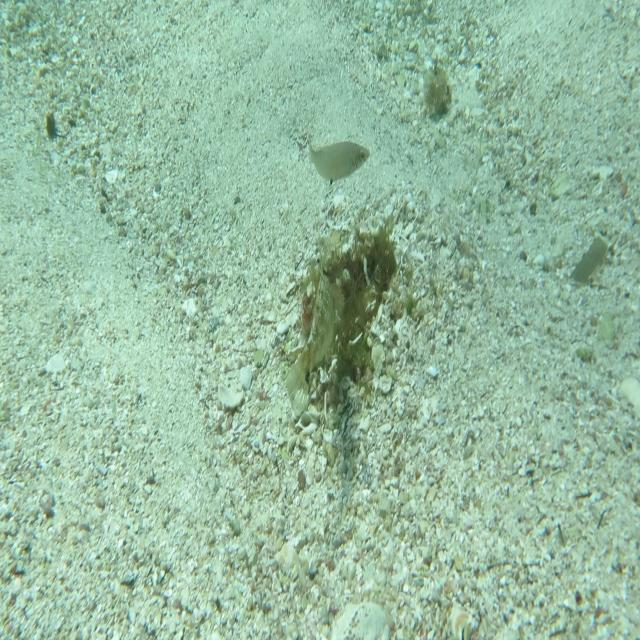AM: (285, 265, 335, 412)
core_nest: (336, 243, 384, 280)
female: (307, 134, 371, 189)
nest: (286, 209, 410, 402)
nest_material: (333, 280, 346, 313)
